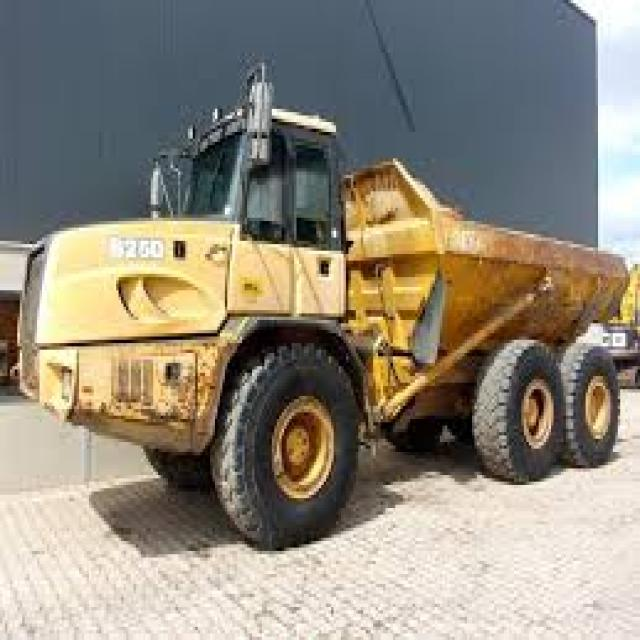dump_truck: (10, 66, 635, 558)
